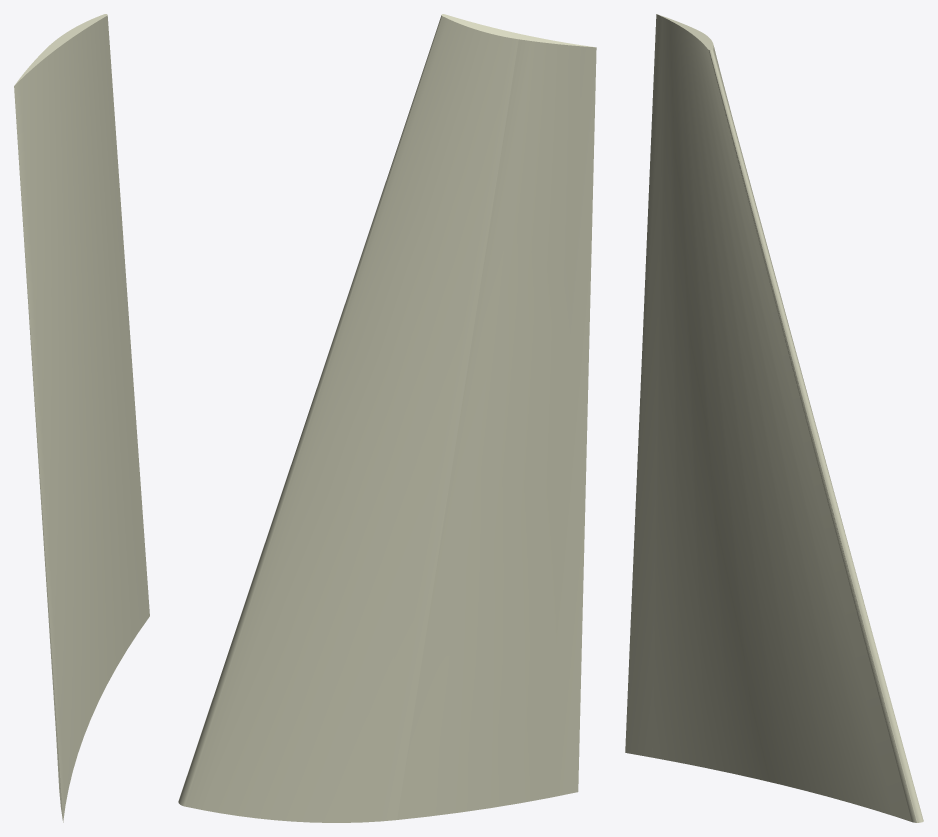
File: original-34.obj
3 renders of one model, left to right at view 1: azimuth 30°, elevation 25°; view 2: azimuth 150°, elevation 25°; view 3: azimuth 270°, elevation 25°, orthographic. The views are drawn at different scales.
Visible parts, largest first — view 1: Fan_Blade34/Fan_Blade/mesh1/mesh1-geometry#mesh1-geometry; view 2: Fan_Blade34/Fan_Blade/mesh1/mesh1-geometry#mesh1-geometry; view 3: Fan_Blade34/Fan_Blade/mesh1/mesh1-geometry#mesh1-geometry.
Boxes of the visible parts, left/top/right/bottom form: Fan_Blade34/Fan_Blade/mesh1/mesh1-geometry#mesh1-geometry: left=14, top=14, right=149, bottom=822; Fan_Blade34/Fan_Blade/mesh1/mesh1-geometry#mesh1-geometry: left=178, top=14, right=596, bottom=822; Fan_Blade34/Fan_Blade/mesh1/mesh1-geometry#mesh1-geometry: left=625, top=14, right=923, bottom=822.
Size of the model in its own units: 0.1112 by 0.2998 by 0.1089.
